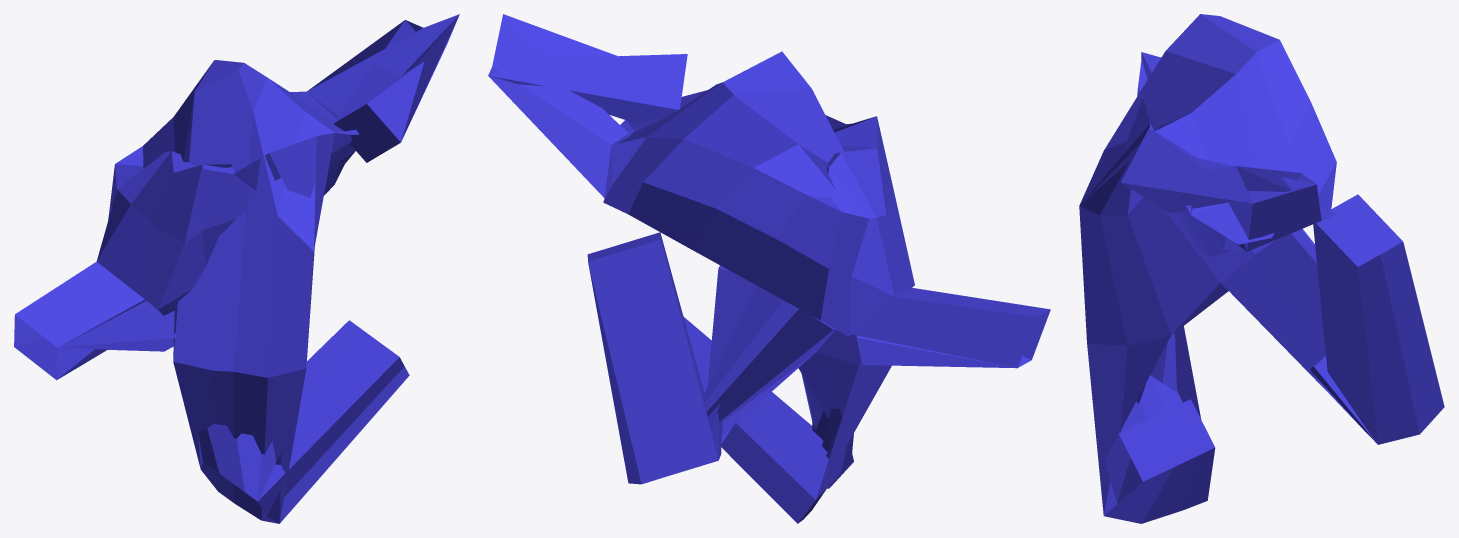
The model's file is body-deform6.glb.
3 renders of one model, left to right at view 1: azimuth 30°, elevation 25°; view 2: azimuth 150°, elevation 25°; view 3: azimuth 270°, elevation 25°, orthographic. The views are drawn at different scales.
Parts seen in each view (by area): view 1: Shape 1; view 2: Shape 1; view 3: Shape 1.
Part boxes in pixels (x1,y1,x2,y2): Shape 1: (14, 14, 459, 523); Shape 1: (488, 14, 1050, 523); Shape 1: (1079, 14, 1444, 523).
Size of the model in its own units: 6.27 by 5.59 by 3.62.
